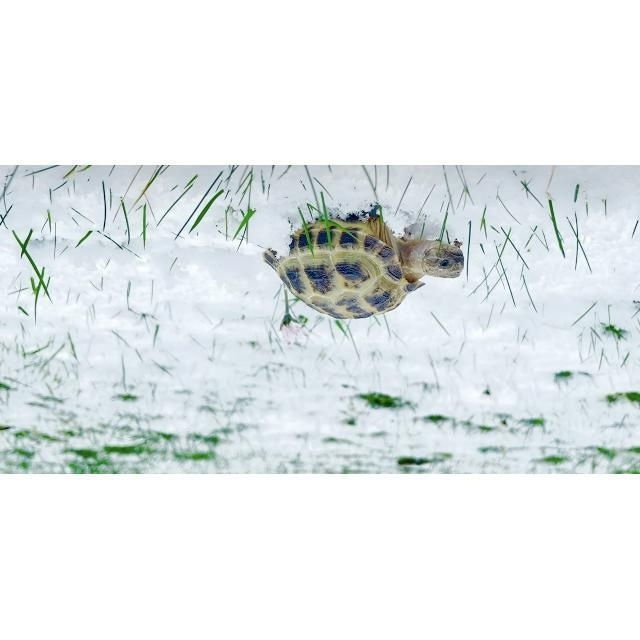turtle: (261, 206, 465, 320)
